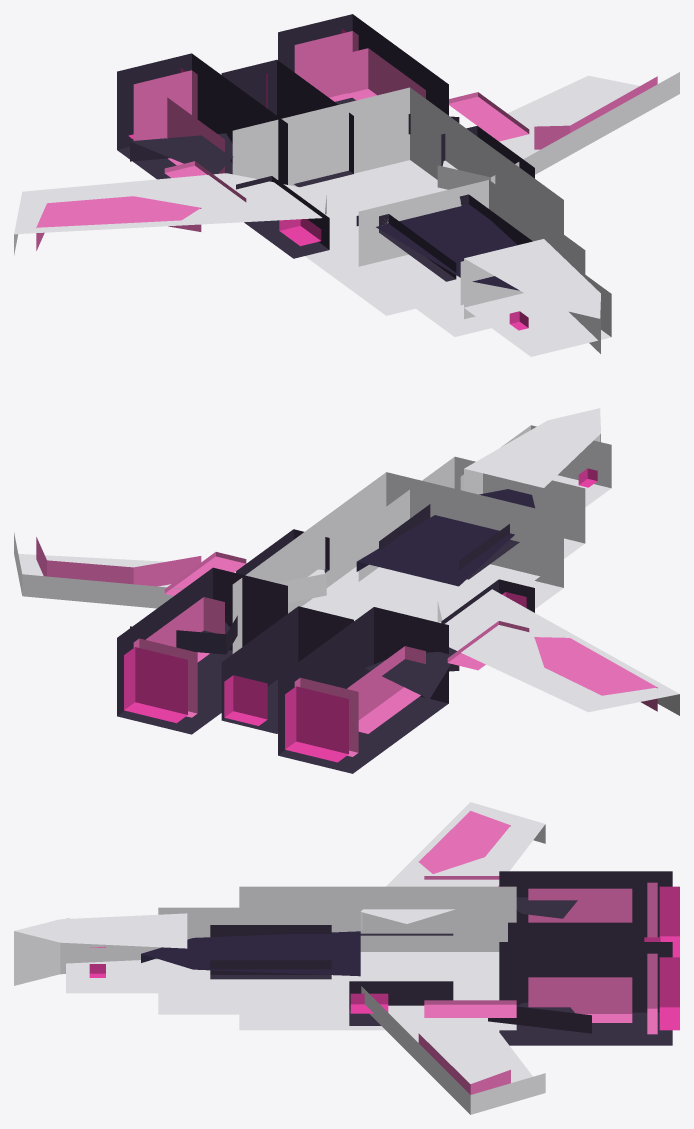
Rendered from Luma01.glb.
3 views of the same model, one above another, from view 1: azimuth 30°, elevation 25°; view 2: azimuth 150°, elevation 25°; view 3: azimuth 270°, elevation 25° (orthographic). The views are drawn at different scales.
Parts seen in each view (by area): view 1: White, Dark, Pink, Glass, Glow; view 2: White, Dark, Pink, Glow, Glass; view 3: White, Dark, Pink, Glass, Glow.
Part boxes in pixels (x1,y1,x2,y2): White: [14, 72, 679, 356]; Dark: [117, 14, 534, 281]; Pink: [36, 31, 657, 250]; Glass: [356, 204, 519, 290]; Glow: [128, 28, 528, 330]; White: [14, 408, 679, 715]; Dark: [117, 504, 534, 773]; Pink: [36, 537, 657, 756]; Glow: [124, 468, 597, 762]; Glass: [356, 489, 534, 586]; White: [14, 802, 545, 1114]; Dark: [210, 871, 672, 1045]; Pink: [418, 811, 657, 1094]; Glass: [141, 931, 360, 976]; Glow: [89, 886, 679, 1030].
Size of the model in its own units: 12 by 1.35 by 11.53.
